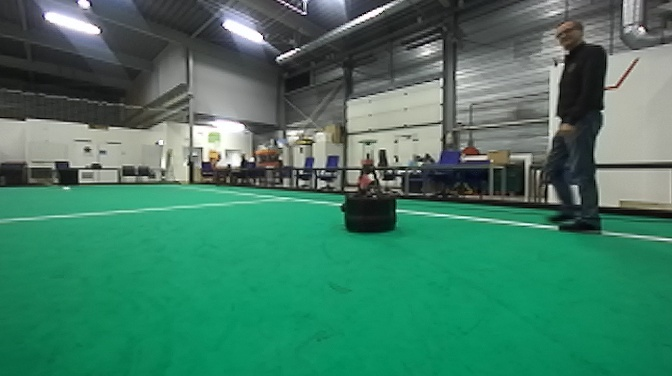human: (540, 23, 617, 241)
robot: (332, 134, 406, 240)
